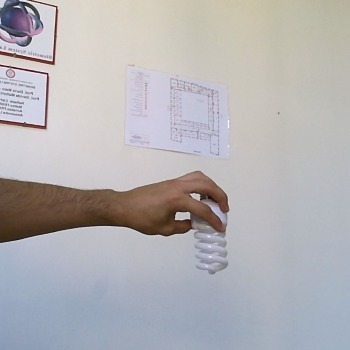hand: (2, 173, 228, 240)
